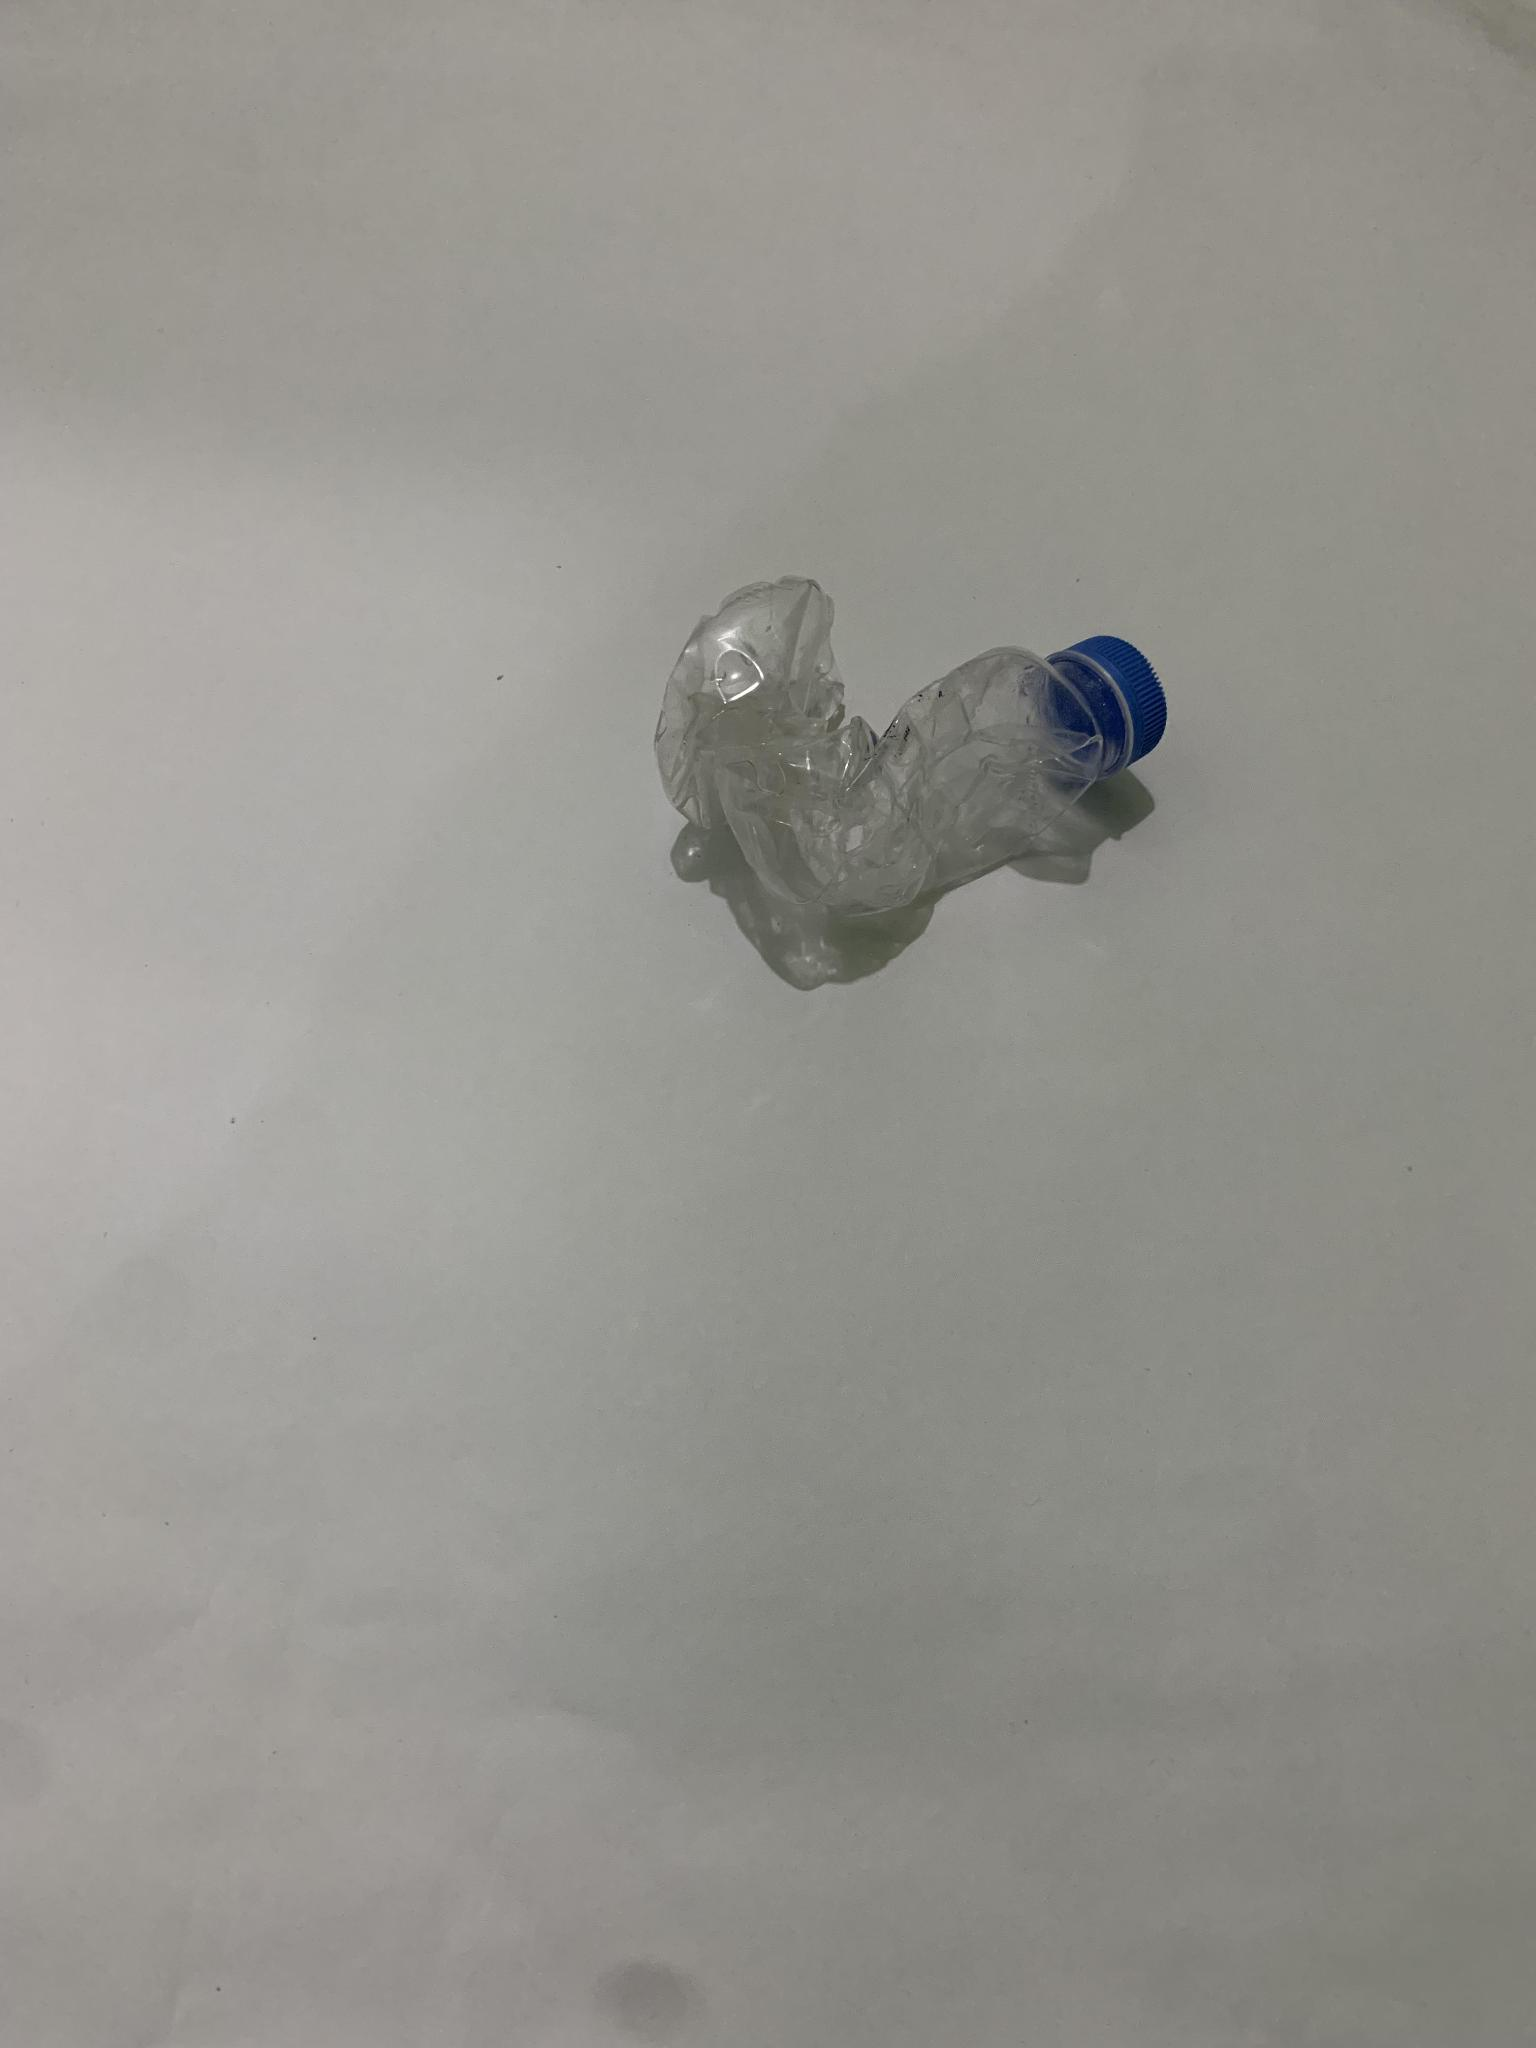bottle: (621, 534, 1225, 988)
